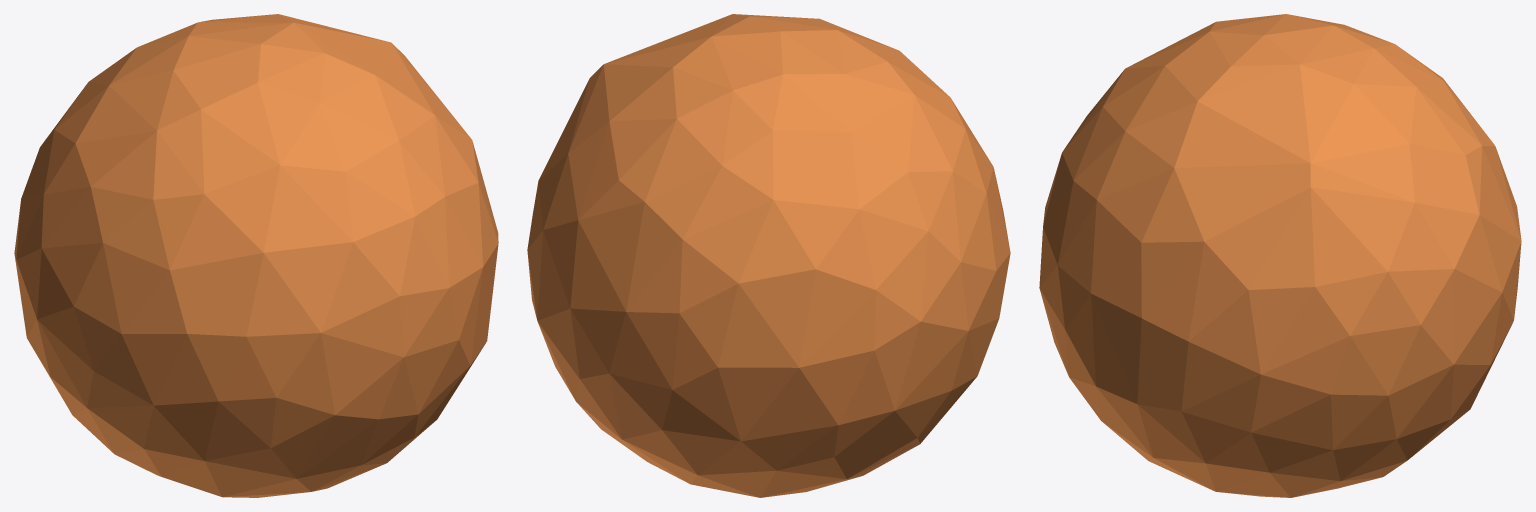
File: korriban_simple.dae
3 renders of one model, left to right at view 1: azimuth 30°, elevation 25°; view 2: azimuth 150°, elevation 25°; view 3: azimuth 270°, elevation 25°, orthographic.
Visible parts, largest first — view 1: kamino; view 2: kamino; view 3: kamino.
Part boxes in pixels (x1,y1,x2,y2): kamino: (14, 14, 498, 497); kamino: (527, 14, 1010, 497); kamino: (1039, 14, 1521, 497).
Size of the model in its own units: 6.04 by 5.99 by 6.03.
